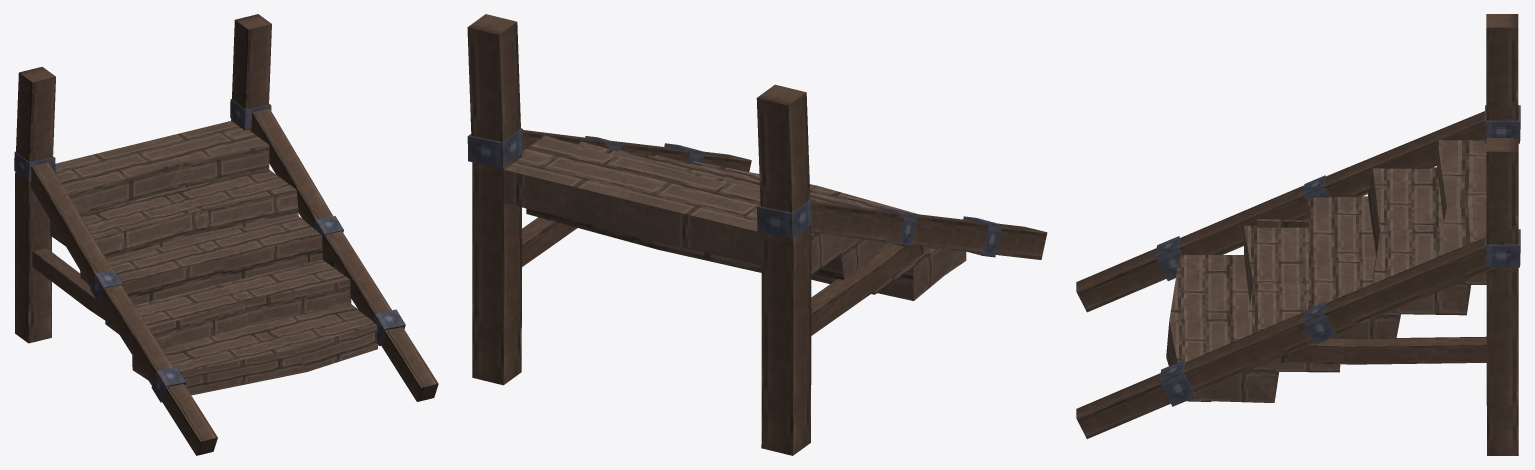
Rendered from strairs_wood_wood.glb.
3 views of the same model, side by side, from view 1: azimuth 30°, elevation 25°; view 2: azimuth 150°, elevation 25°; view 3: azimuth 270°, elevation 25° (orthographic). The views are drawn at different scales.
Visible parts, largest first — view 1: strairs_wood_wood; view 2: strairs_wood_wood; view 3: strairs_wood_wood.
Part boxes in pixels (x1,y1,x2,y2): strairs_wood_wood: (14,14,438,455); strairs_wood_wood: (467,14,1047,455); strairs_wood_wood: (1076,14,1520,455).
Size of the model in its own units: 2.08 by 2.1 by 2.76.
1 material, 1 textured.
